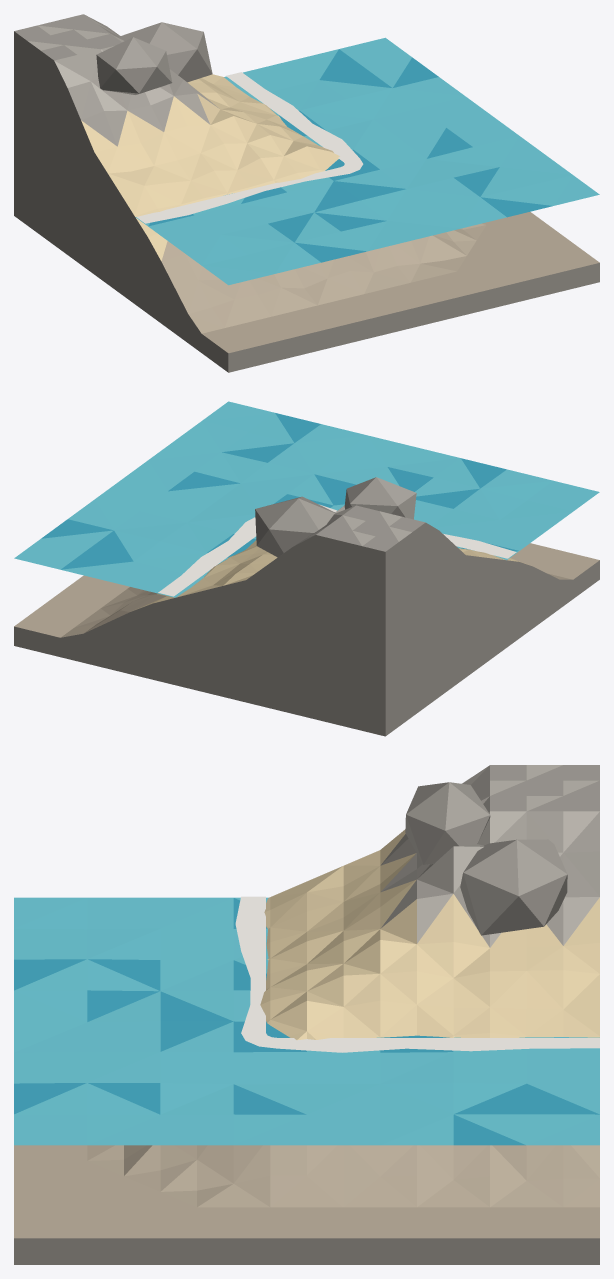
Rendered from shore_outer_corner.glb.
3 renders of one model, top to bottom at view 1: azimuth 30°, elevation 25°; view 2: azimuth 150°, elevation 25°; view 3: azimuth 270°, elevation 25°, orthographic. The views are drawn at different scales.
Parts seen in each view (by area): view 1: shore_outer_corner, part_water, part_foam; view 2: shore_outer_corner, part_water, part_foam; view 3: shore_outer_corner, part_water, part_foam.
Boxes of the visible parts, left/top/right/bottom form: shore_outer_corner: left=14, top=14, right=599, bottom=372; part_water: left=135, top=37, right=599, bottom=285; part_foam: left=136, top=72, right=363, bottom=223; shore_outer_corner: left=14, top=477, right=599, bottom=736; part_water: left=14, top=401, right=599, bottom=597; part_foam: left=158, top=504, right=516, bottom=596; shore_outer_corner: left=14, top=765, right=599, bottom=1264; part_water: left=14, top=897, right=599, bottom=1145; part_foam: left=235, top=896, right=599, bottom=1052.
Bounding box in the file's own units: 2 × 1.05 × 2.
